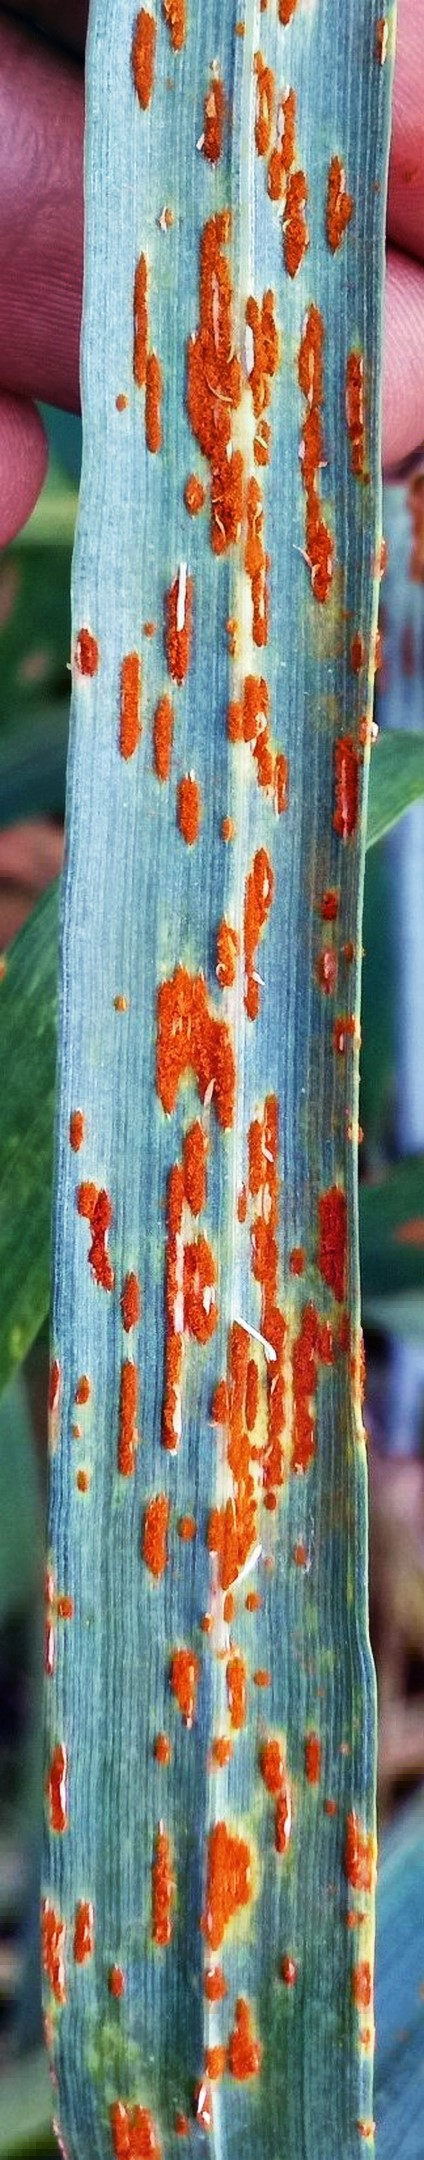Leaf Rust: (21, 123, 424, 2013)
